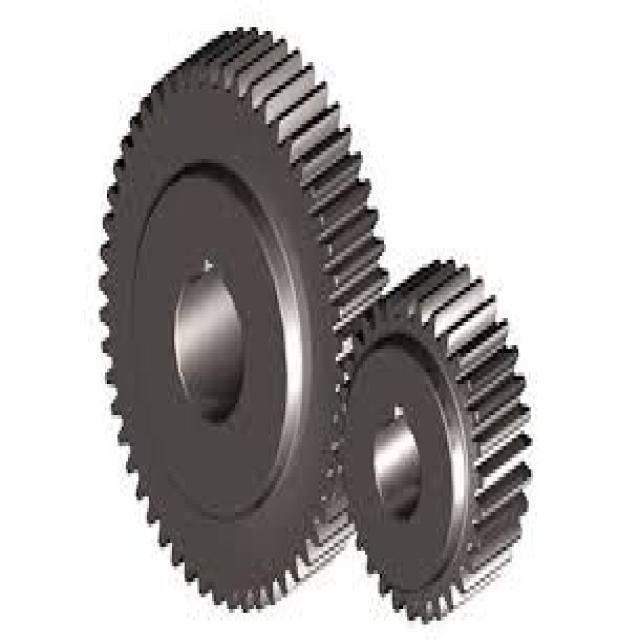Milling: (78, 13, 359, 613), (334, 249, 540, 627)
